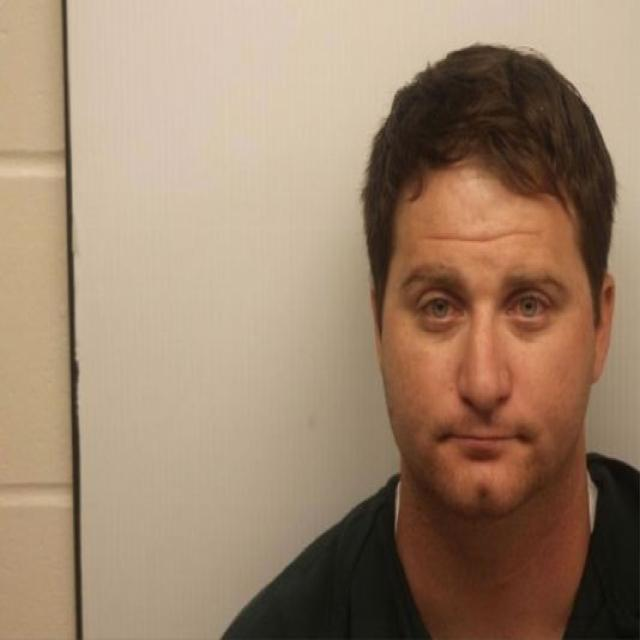human: (207, 38, 640, 640)
